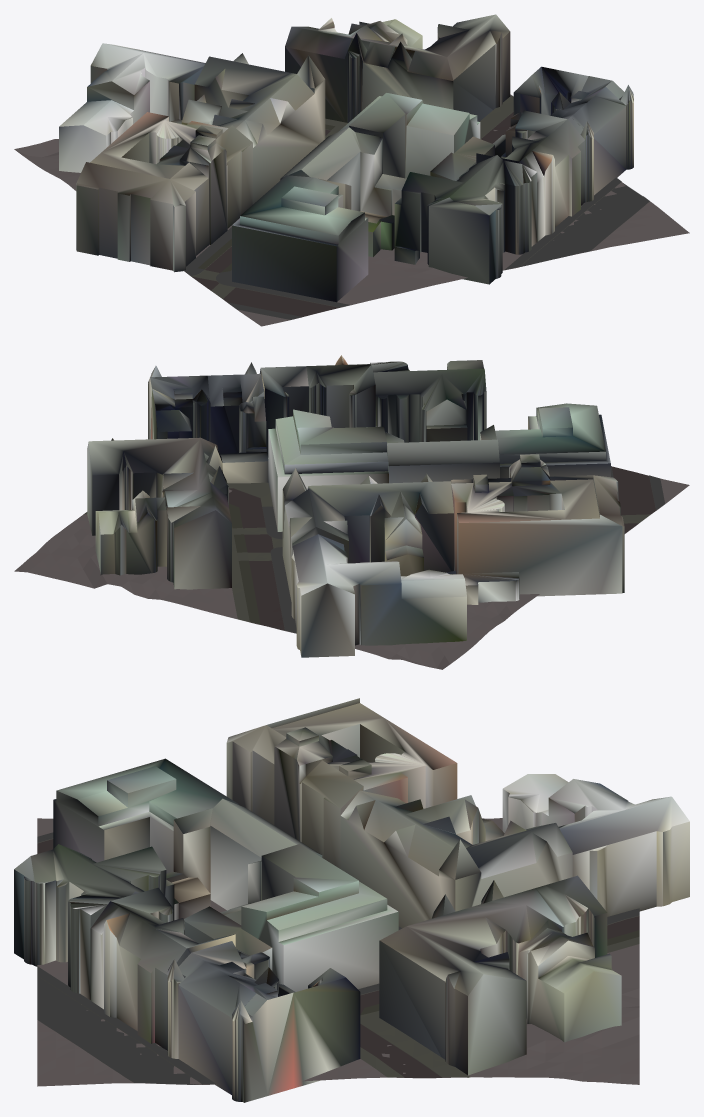
3 renders of one model, top to bottom at view 1: azimuth 30°, elevation 25°; view 2: azimuth 150°, elevation 25°; view 3: azimuth 270°, elevation 25°, orthographic. The views are drawn at different scales.
Visible parts, largest first — view 1: c_m07_p01; view 2: c_m07_p01; view 3: c_m07_p01.
Boxes of the visible parts, x1,y1,x2,y2 form: c_m07_p01: [14, 14, 689, 326]; c_m07_p01: [14, 355, 689, 669]; c_m07_p01: [14, 698, 689, 1102].
Bounding box in the file's own units: 154 × 30.59 × 144.
